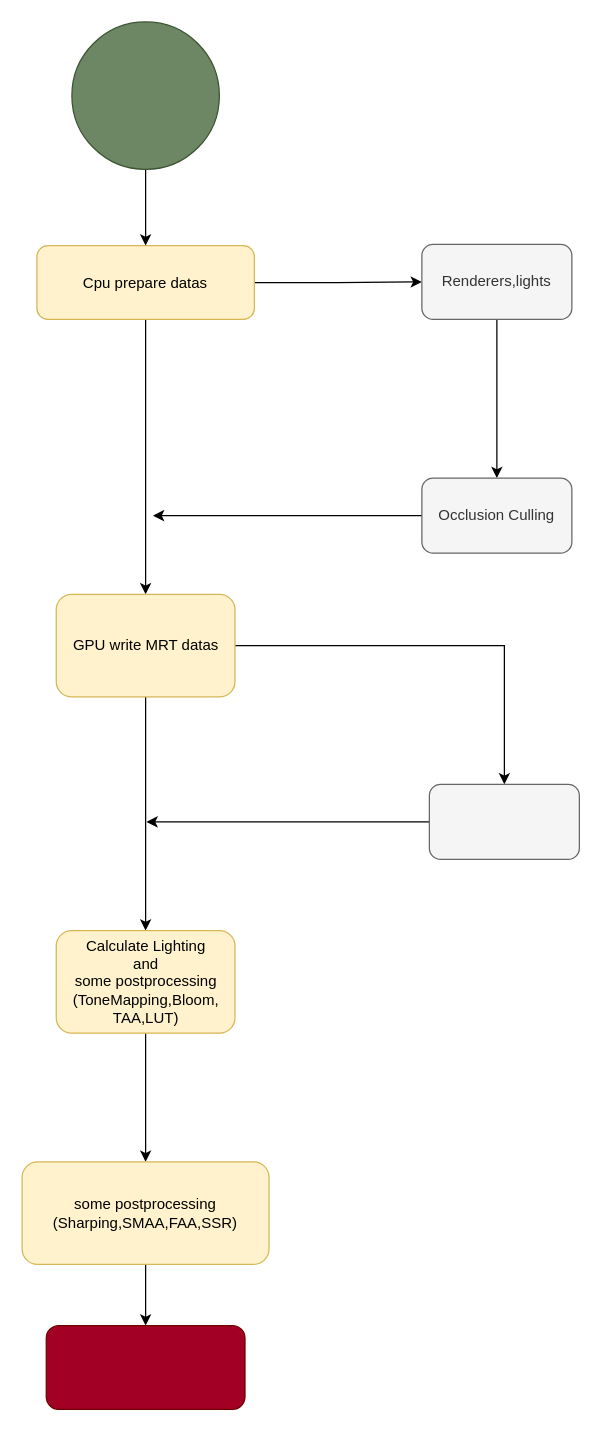
Image size: 601x1431. Some labels were removed from this diagram. Here are the shapes that lost their labels. From the top down, the centre of each, then its label:
At point (145, 95): "Deferred Rendering Start".
At point (503, 821): "Calculate light tiles".
At point (145, 1366): "Write to frame back buffer".
